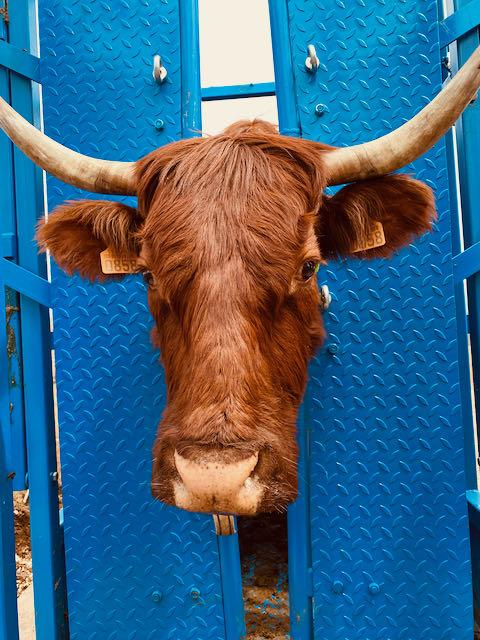muzzles: (135, 425, 309, 522)
